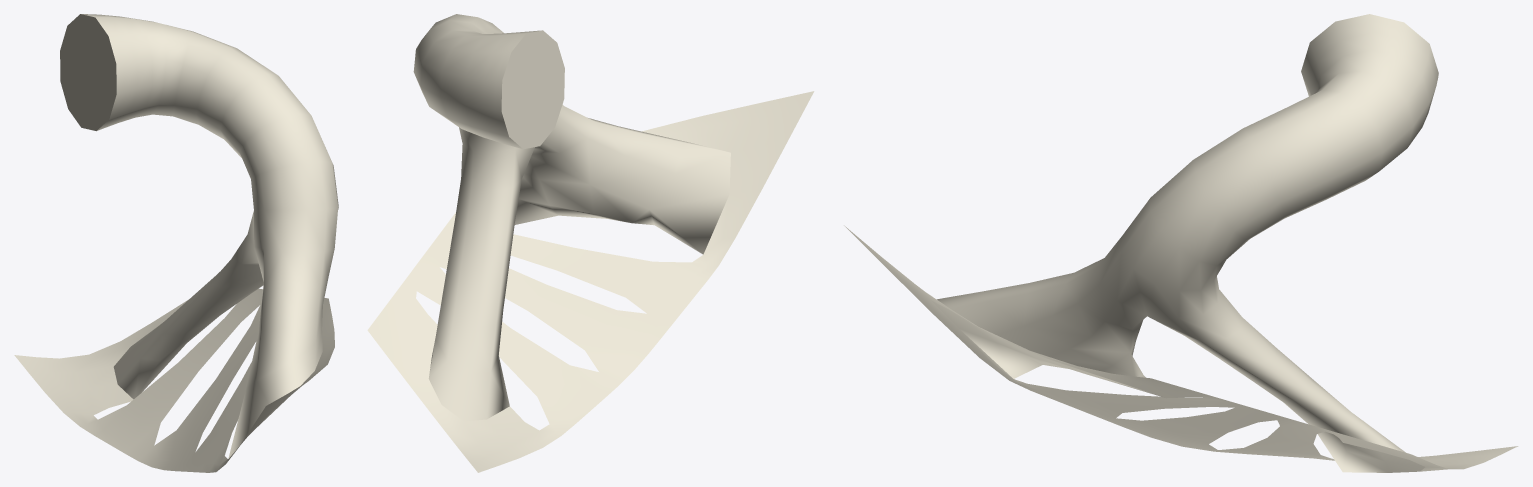
3 renders of one model, left to right at view 1: azimuth 30°, elevation 25°; view 2: azimuth 150°, elevation 25°; view 3: azimuth 270°, elevation 25°, orthographic. The views are drawn at different scales.
Visible parts, largest first — view 1: ZA_8c4856bd852fc0af; view 2: ZA_8c4856bd852fc0af; view 3: ZA_8c4856bd852fc0af.
Part boxes in pixels (x1,y1,x2,y2): ZA_8c4856bd852fc0af: (14, 14, 338, 472); ZA_8c4856bd852fc0af: (367, 14, 814, 472); ZA_8c4856bd852fc0af: (844, 14, 1518, 472).
Size of the model in its own units: 0.0137 by 0.0245 by 0.0326.
